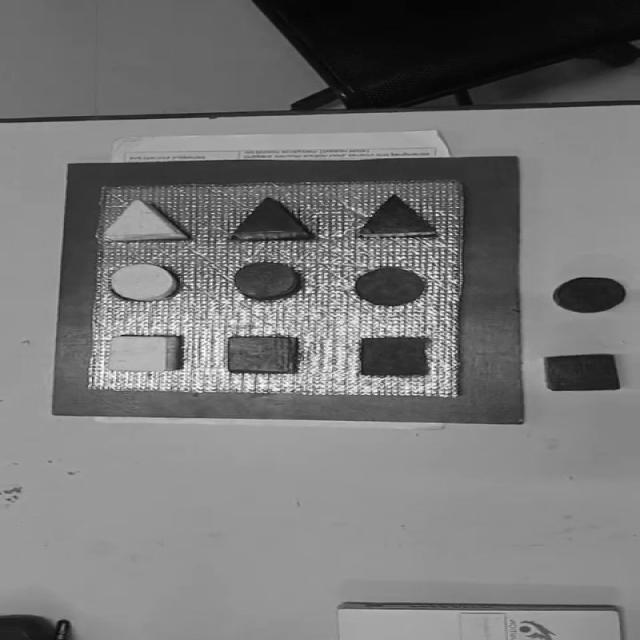bcircle: (107, 262, 181, 302), (551, 276, 628, 314)
bcube: (543, 352, 622, 392)
btriangle: (356, 194, 438, 238)
mtcircle: (351, 266, 426, 306)
rcircle: (232, 261, 299, 299)
rcube: (358, 336, 432, 376), (225, 336, 298, 374)
rtriangle: (231, 197, 310, 241)
wb: (83, 179, 476, 401)
ycube: (105, 334, 181, 372)
ytriangle: (101, 198, 189, 242)
